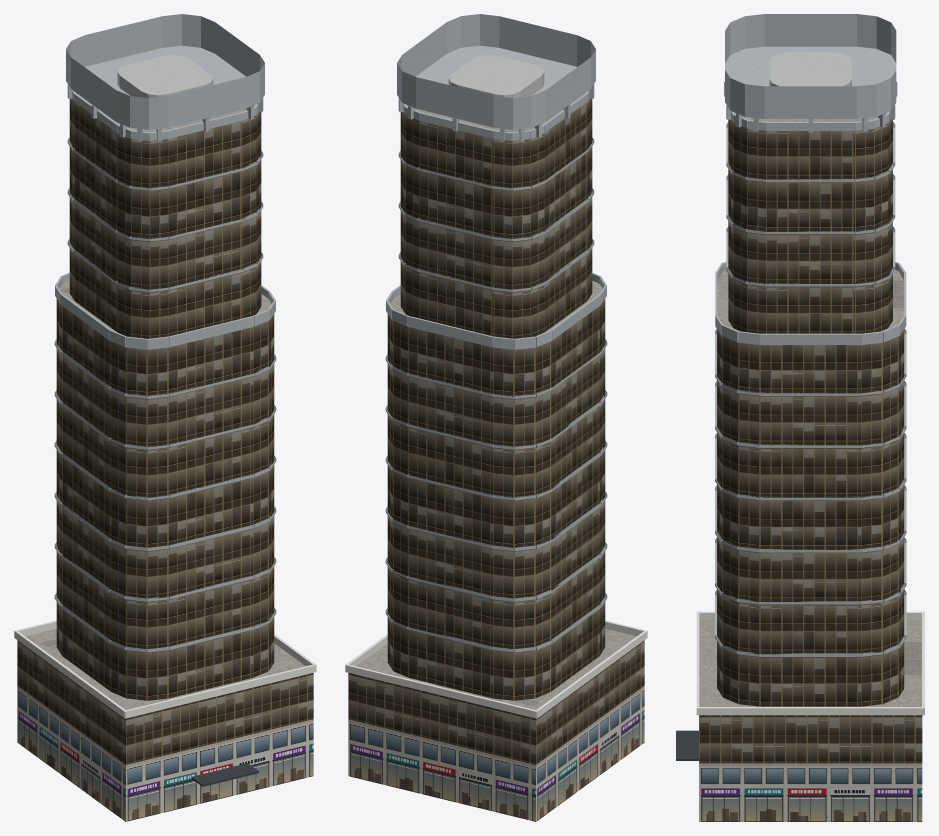
Rendered from OW_CaoOc_VP_BoTron_104.fbx.
The picture shows the model from 3 angles, left to right: view 1: azimuth 30°, elevation 25°; view 2: azimuth 150°, elevation 25°; view 3: azimuth 270°, elevation 25°; orthographic projection. The views are drawn at different scales.
Parts seen in each view (by area): view 1: OW_CaoOc_VP_BoTron_104_LOD0; view 2: OW_CaoOc_VP_BoTron_104_LOD0; view 3: OW_CaoOc_VP_BoTron_104_LOD0.
Boxes of the visible parts, x1,y1,x2,y2 form: OW_CaoOc_VP_BoTron_104_LOD0: (14, 14, 316, 821); OW_CaoOc_VP_BoTron_104_LOD0: (345, 14, 647, 821); OW_CaoOc_VP_BoTron_104_LOD0: (676, 14, 924, 821).
Size of what is drawn, in the model's own units: 31.7 by 111 by 34.55.
